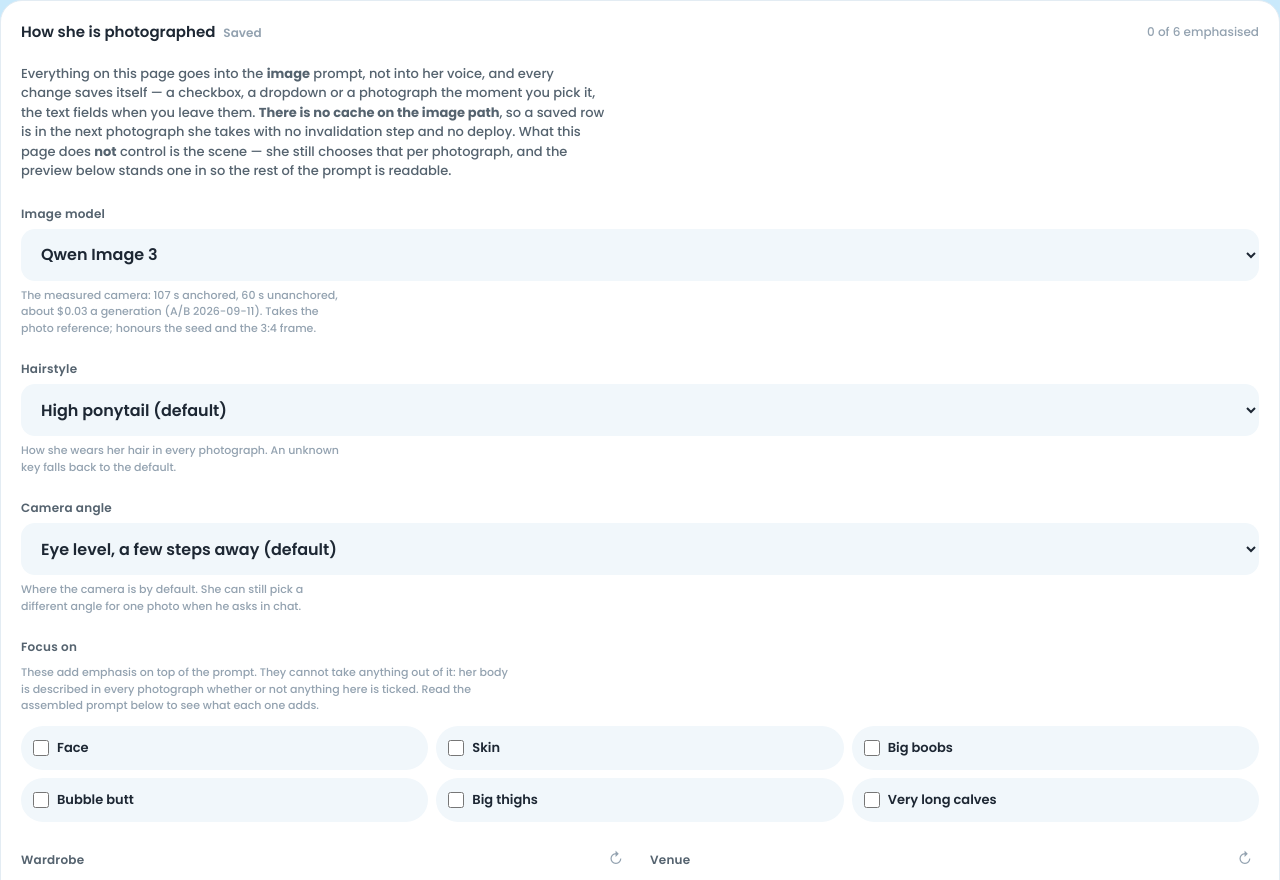
Test: ImageGenPanel — the commit moments › a focus checkbox commits on CHANGE, immediately
This screenshot has width=1280, height=880.
Click the checkbox labelled "Face" at (41, 748), box [33,740,49,756]
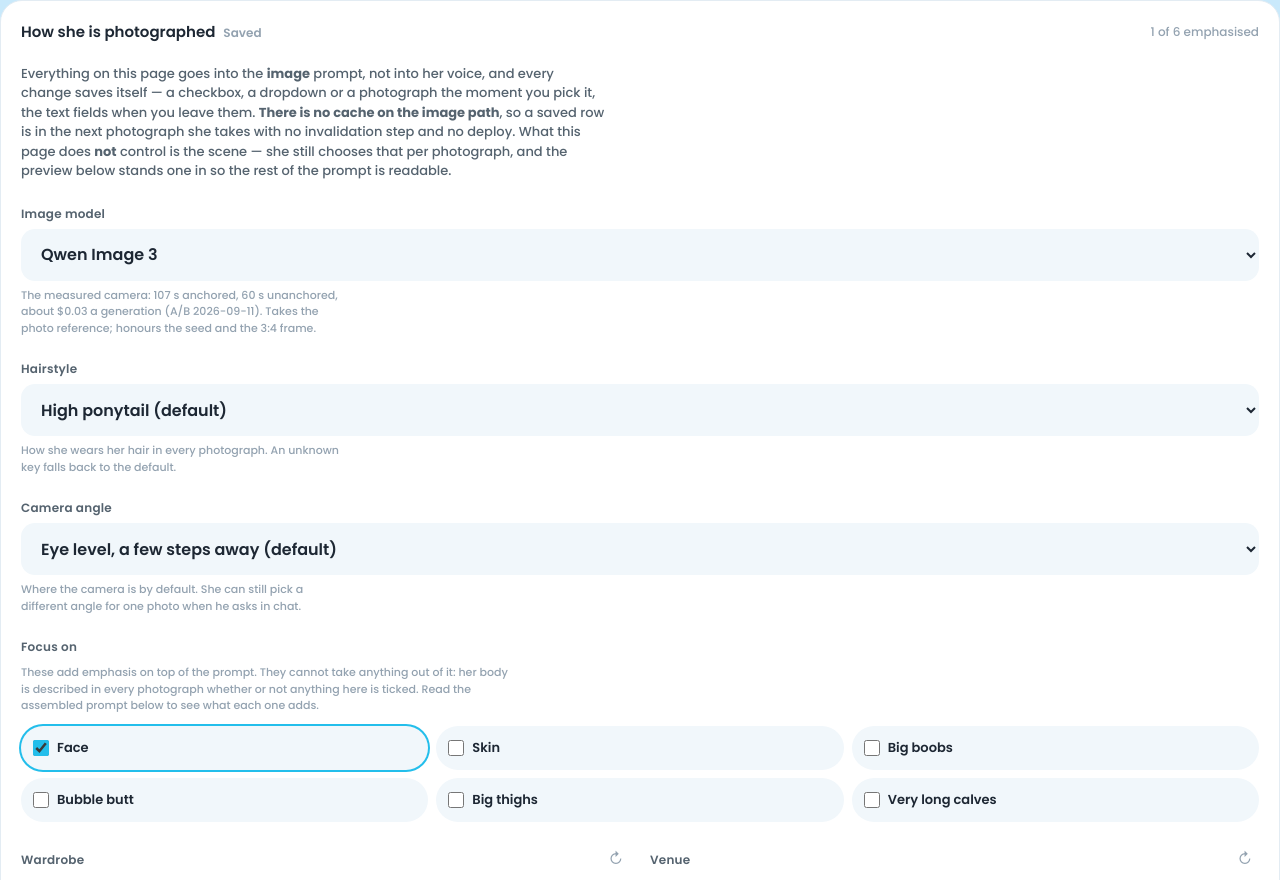
Expected: the text "Saved" is shown, [223,24,262,41]
Result: the text "1 of 6 emphasised" is shown at [1151,23,1259,41]
